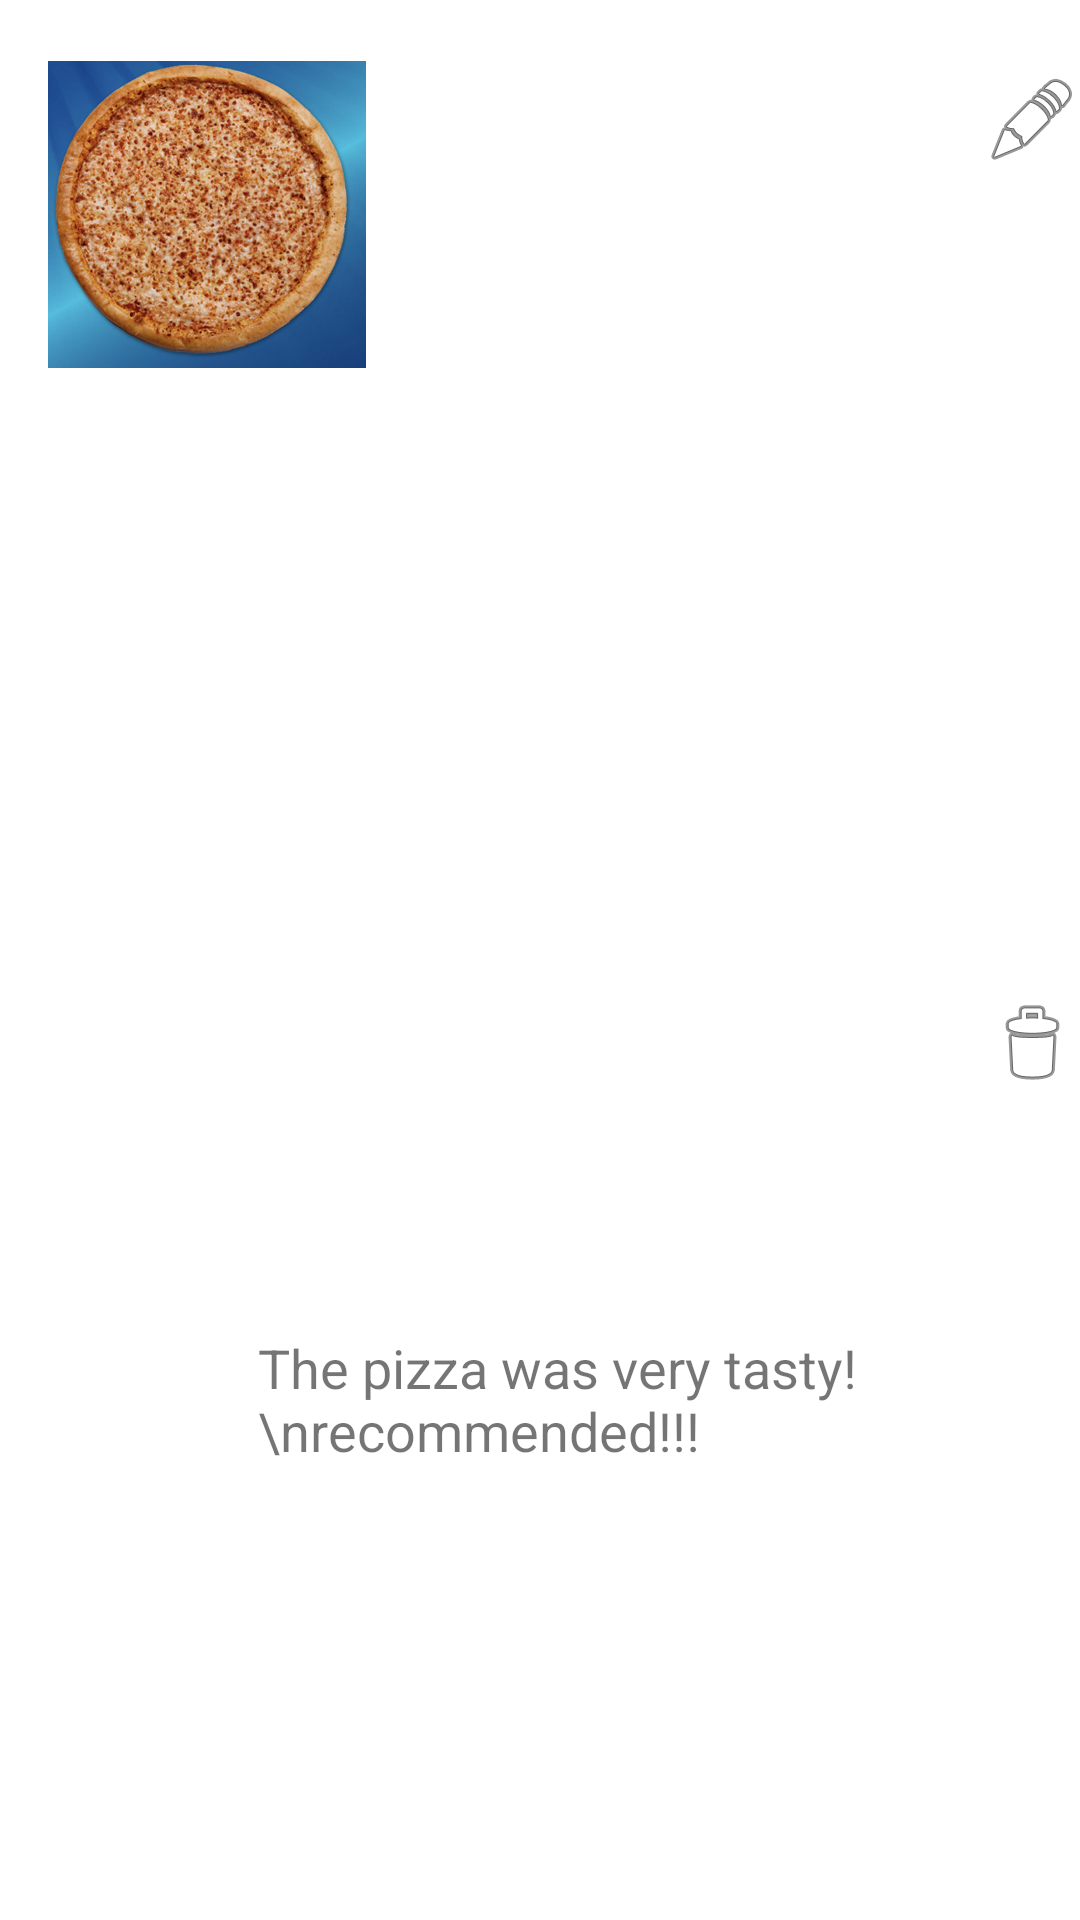

Icon click points for this 1080w x 1920h phone screenshot, format (x=x, y=y):
delete: (x=1032, y=1042)
edit: (x=1031, y=119)
pizza: (x=207, y=214)
